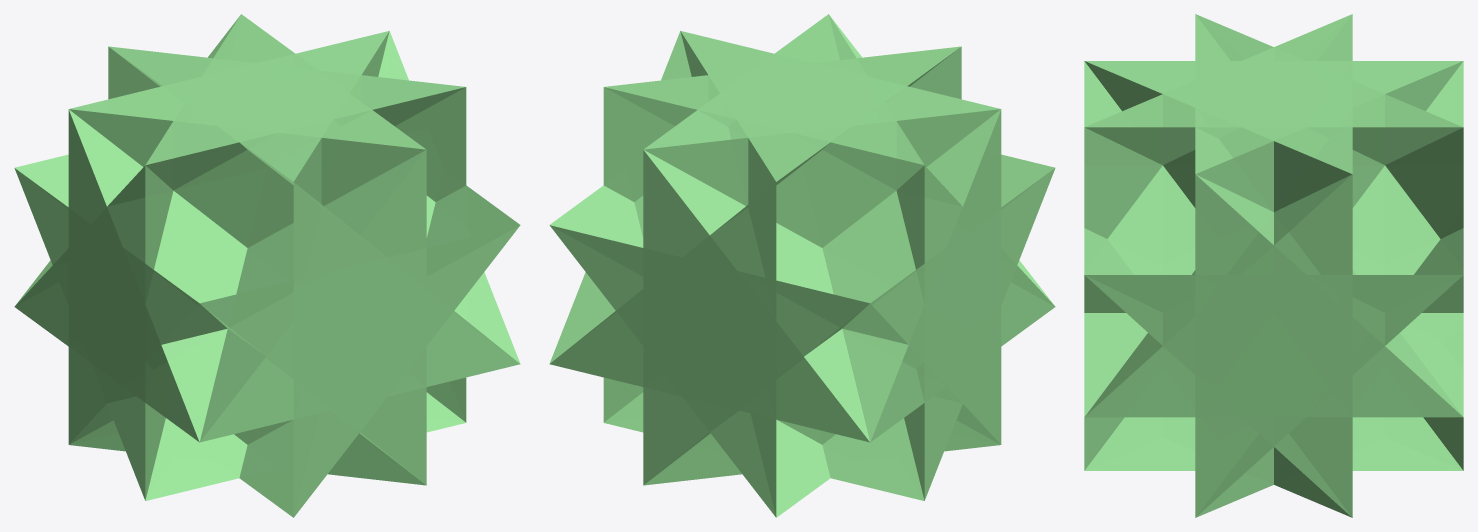
File: GreatRhombihexahedron.obj
The picture shows the model from 3 angles, left to right: view 1: azimuth 30°, elevation 25°; view 2: azimuth 150°, elevation 25°; view 3: azimuth 270°, elevation 25°; orthographic projection. The views are drawn at different scales.
Bounding box in the file's own units: 1 × 1 × 1.
